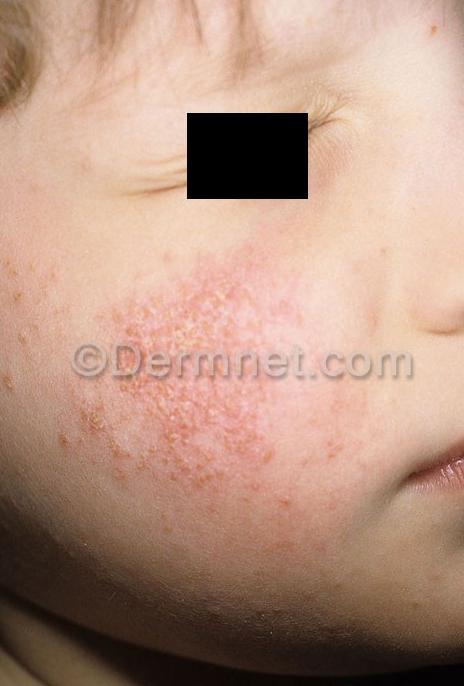edema 2: (56, 247, 361, 509)
